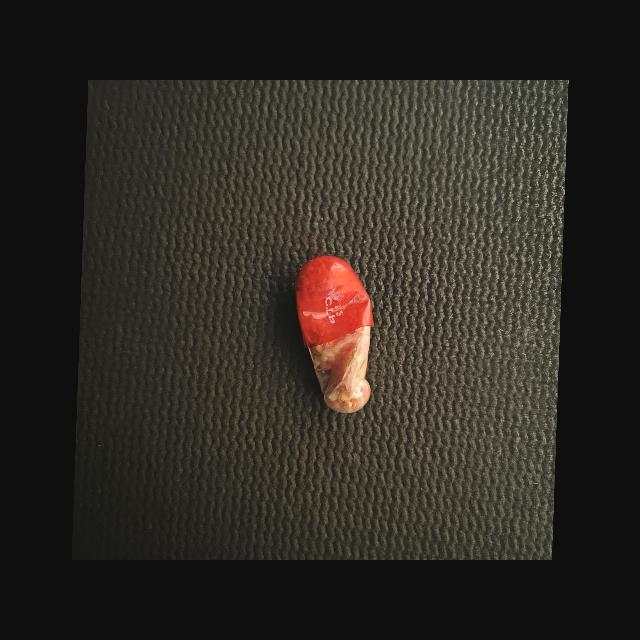Defective Capsule: (296, 256, 374, 413)
